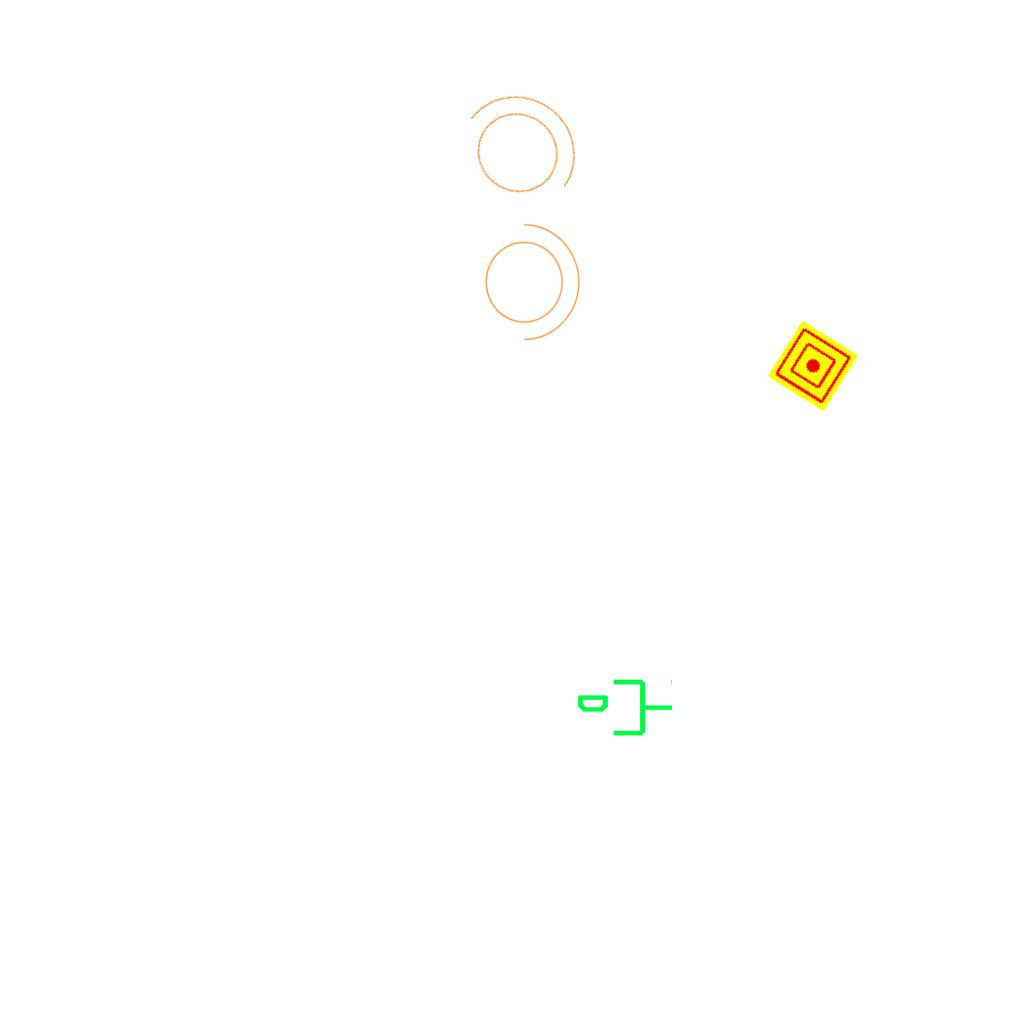Datenanschluss_einfach: (575, 675, 675, 744)
NAM-Nichtautomatischer_Melder: (767, 320, 859, 412)
Scheinwerfer_fuer_Alarmbeleuchtung: (431, 62, 605, 232), (473, 213, 585, 345)
